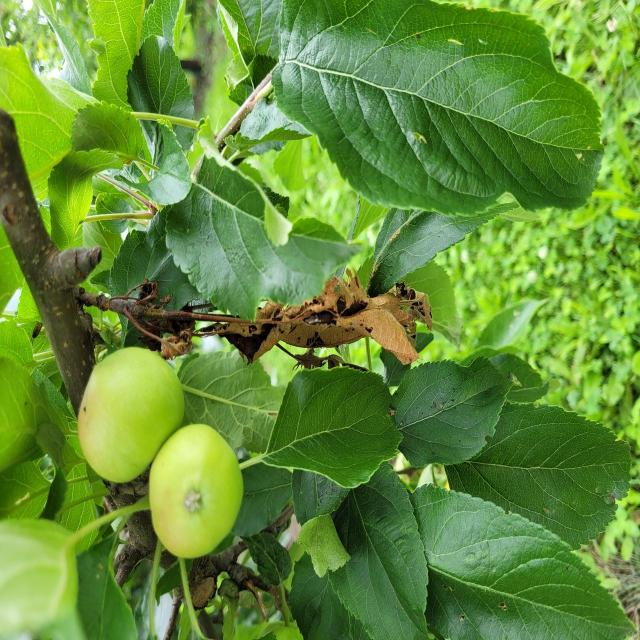-FireBlight-: (127, 273, 449, 364)
